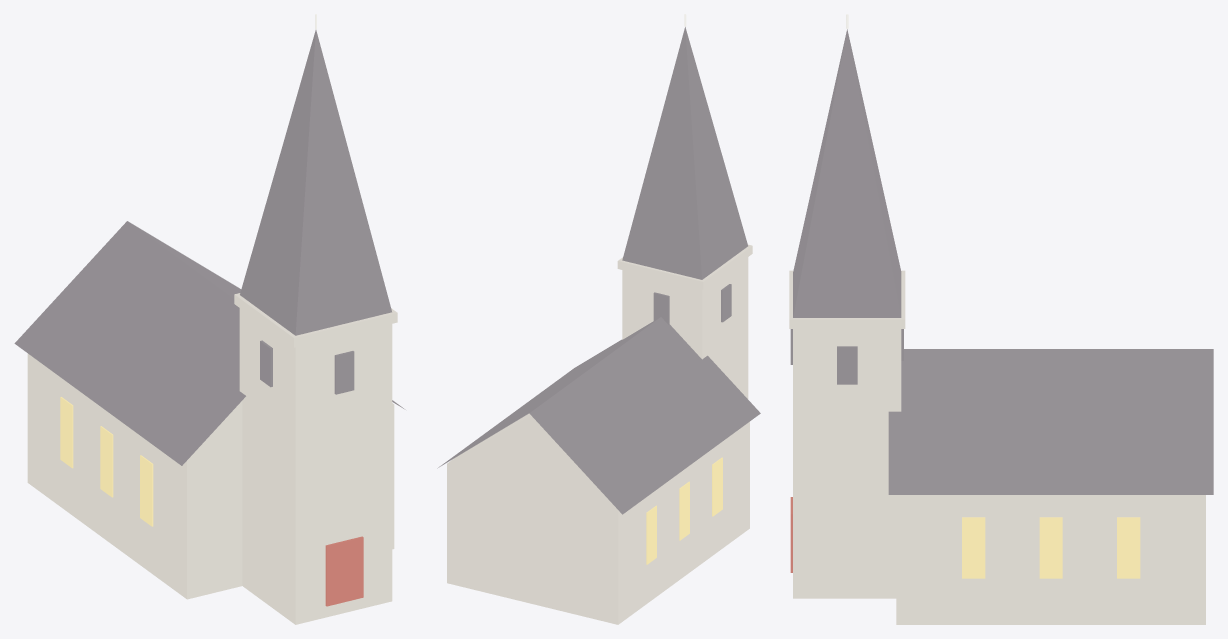
File: Blender_Church.glb
3 views of the same model, side by side, from view 1: azimuth 30°, elevation 25°; view 2: azimuth 150°, elevation 25°; view 3: azimuth 270°, elevation 25° (orthographic). The views are drawn at different scales.
Parts seen in each view (by area): view 1: Blender_Church; view 2: Blender_Church; view 3: Blender_Church.
Boxes of the visible parts, x1,y1,x2,y2 form: Blender_Church: (14,14,405,624); Blender_Church: (437,14,760,624); Blender_Church: (789,14,1213,624).
Size of the model in its own units: 9.8 by 24 by 16.45.
